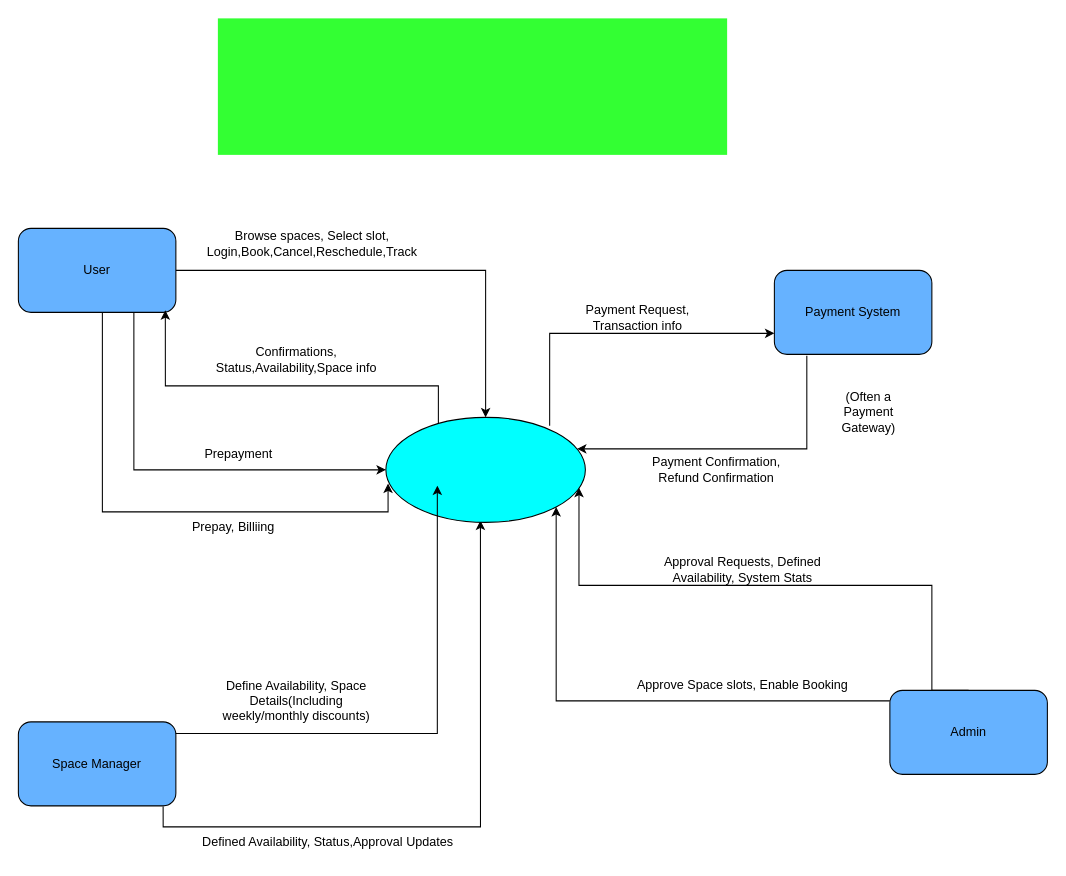
Image size: 1066x876. Some labels were removed from this diagram. The shapes that lost their labels are listed below. From the top down, each one's centre as x and y in pixels, then its label:
[472,86]: CONTEX DIAGRAM (DFD level 0)
[485,469]: Coworking Space Booking System
